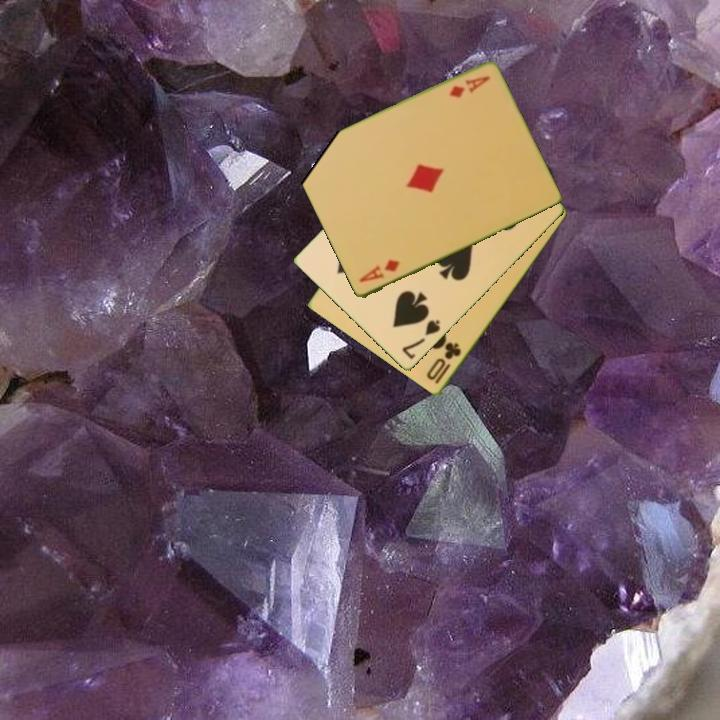10c: (423, 339, 464, 387)
7s: (398, 316, 444, 363)
Ad: (355, 256, 402, 286), (445, 73, 493, 101)
